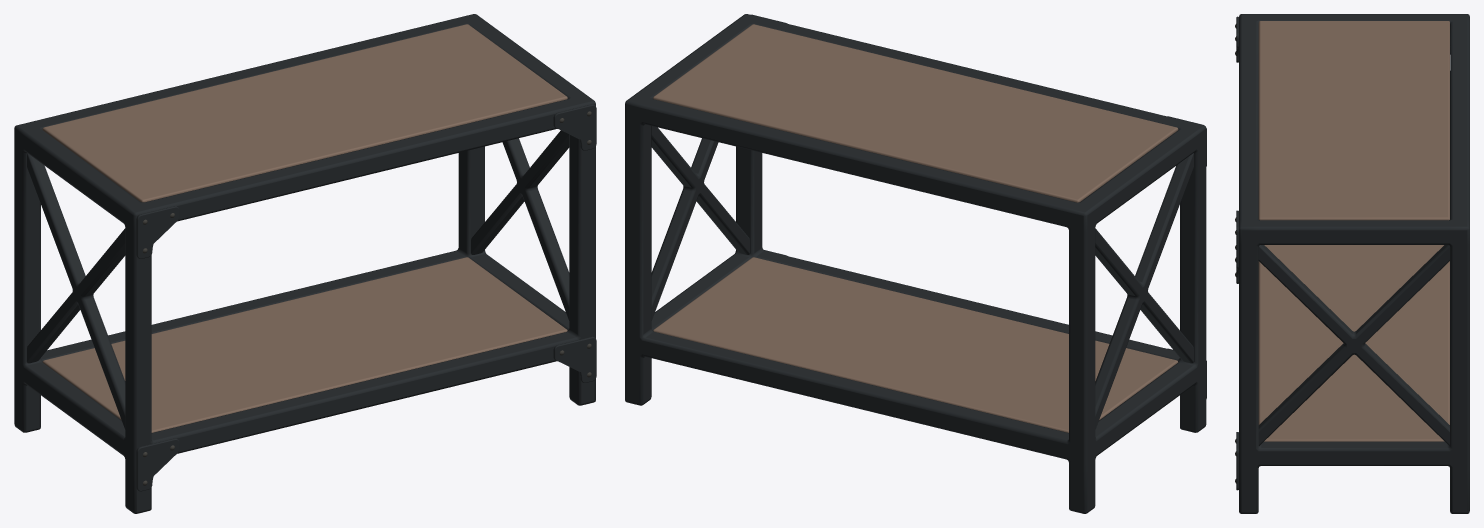
Rendered from mejaintan2.fbx.
The picture shows the model from 3 angles, left to right: view 1: azimuth 30°, elevation 25°; view 2: azimuth 150°, elevation 25°; view 3: azimuth 270°, elevation 25°; orthographic projection. The views are drawn at different scales.
Parts seen in each view (by area): view 1: Box10633.001, Box10633; view 2: Box10633.001, Box10633; view 3: Box10633.001, Box10633.
Boxes of the visible parts, bbox=[...] form: Box10633.001: bbox=[42, 24, 567, 432]; Box10633: bbox=[14, 14, 596, 513]; Box10633.001: bbox=[653, 24, 1178, 432]; Box10633: bbox=[625, 14, 1206, 513]; Box10633.001: bbox=[1258, 21, 1449, 441]; Box10633: bbox=[1236, 14, 1469, 513].
Size of the model in its own units: 103 by 64.61 by 47.74.
